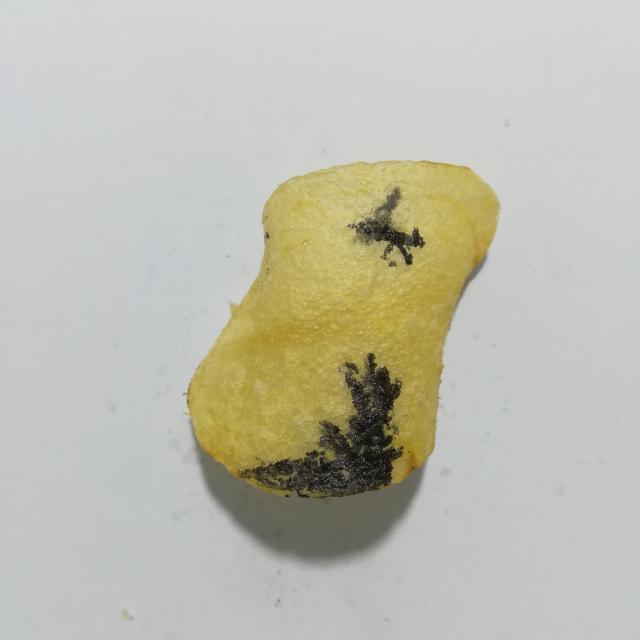chip: (187, 161, 499, 498)
damaged: (241, 353, 403, 497), (347, 186, 425, 265), (389, 261, 396, 267), (266, 232, 269, 239), (285, 494, 290, 497)
